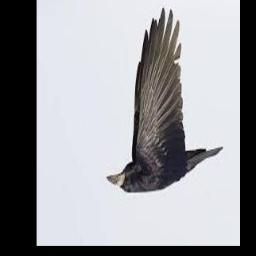Crow: (106, 10, 223, 194)
